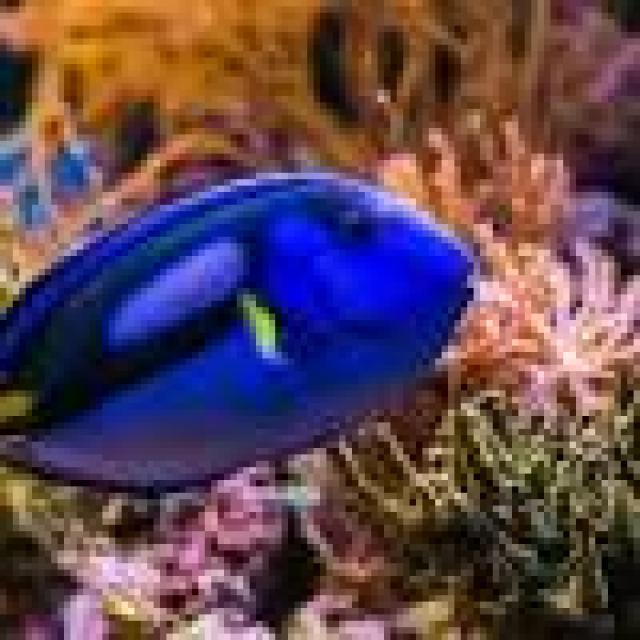BlueTang: (0, 173, 471, 493)
